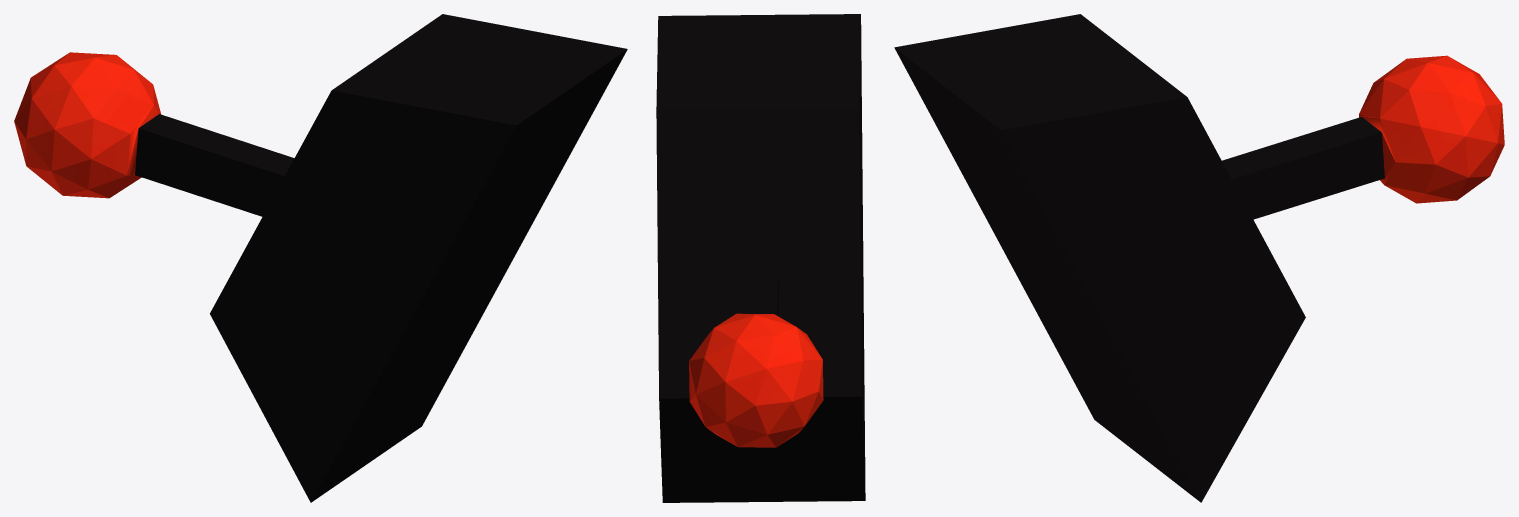
The model's file is palanca7.obj.
The picture shows the model from 3 angles, left to right: view 1: azimuth 30°, elevation 25°; view 2: azimuth 150°, elevation 25°; view 3: azimuth 270°, elevation 25°; orthographic projection. The views are drawn at different scales.
Parts seen in each view (by area): view 1: palanca7; view 2: palanca7; view 3: palanca7.
Part boxes in pixels (left/top/right/bottom): palanca7: left=14, top=14, right=627, bottom=502; palanca7: left=656, top=14, right=865, bottom=502; palanca7: left=894, top=14, right=1504, bottom=502.
Bounding box in the file's own units: 0.3443 × 0.3638 × 0.4719.
Materials: 2 (1 with a texture image).
